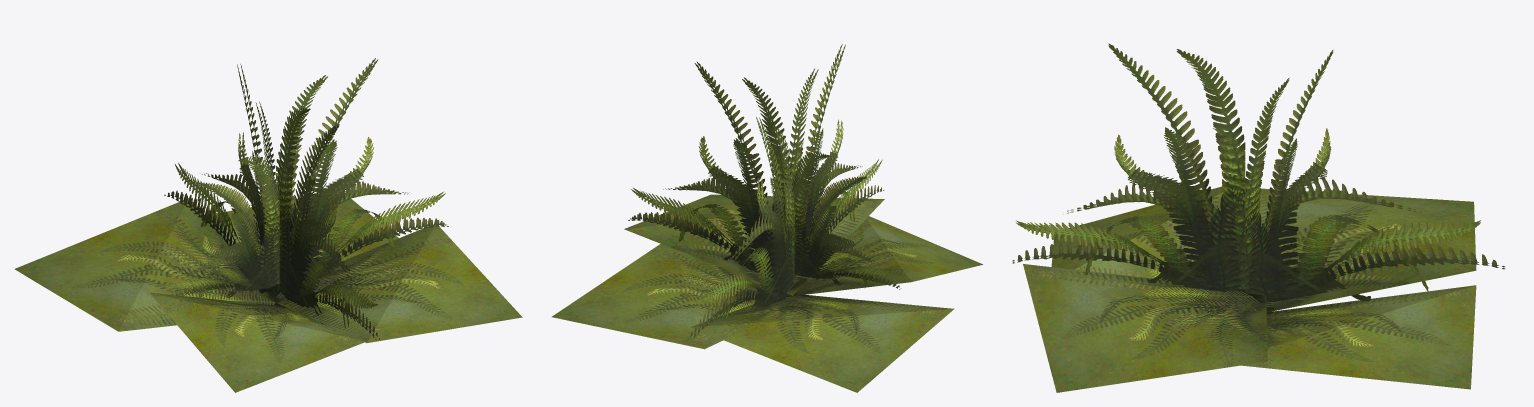
The model's file is frst_fern_olive_l3.fbx.
3 renders of one model, left to right at view 1: azimuth 30°, elevation 25°; view 2: azimuth 150°, elevation 25°; view 3: azimuth 270°, elevation 25°, orthographic. The views are drawn at different scales.
Parts seen in each view (by area): view 1: mesh_node; view 2: mesh_node; view 3: mesh_node.
Part boxes in pixels (x1,y1,x2,y2): mesh_node: [14, 58, 522, 392]; mesh_node: [552, 44, 982, 392]; mesh_node: [1012, 43, 1504, 392].
Size of the model in its own units: 3.31 by 2.41 by 3.65.
